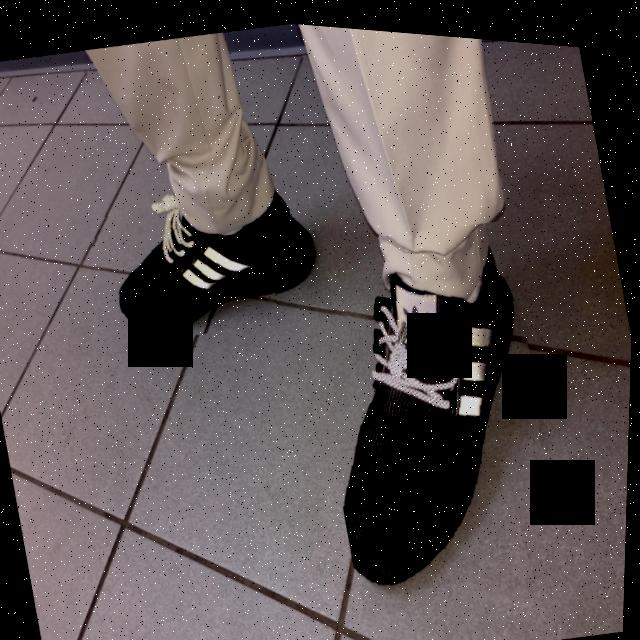shoe: (289, 196, 591, 627), (81, 159, 340, 359)
